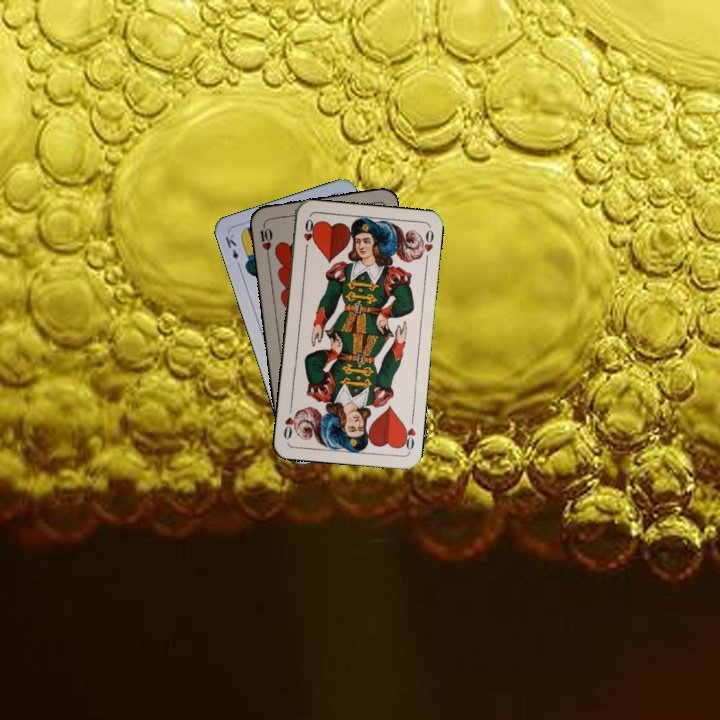EK: (221, 230, 243, 270)
H10: (255, 219, 275, 259)
HO: (398, 413, 418, 454), (299, 215, 317, 255)
